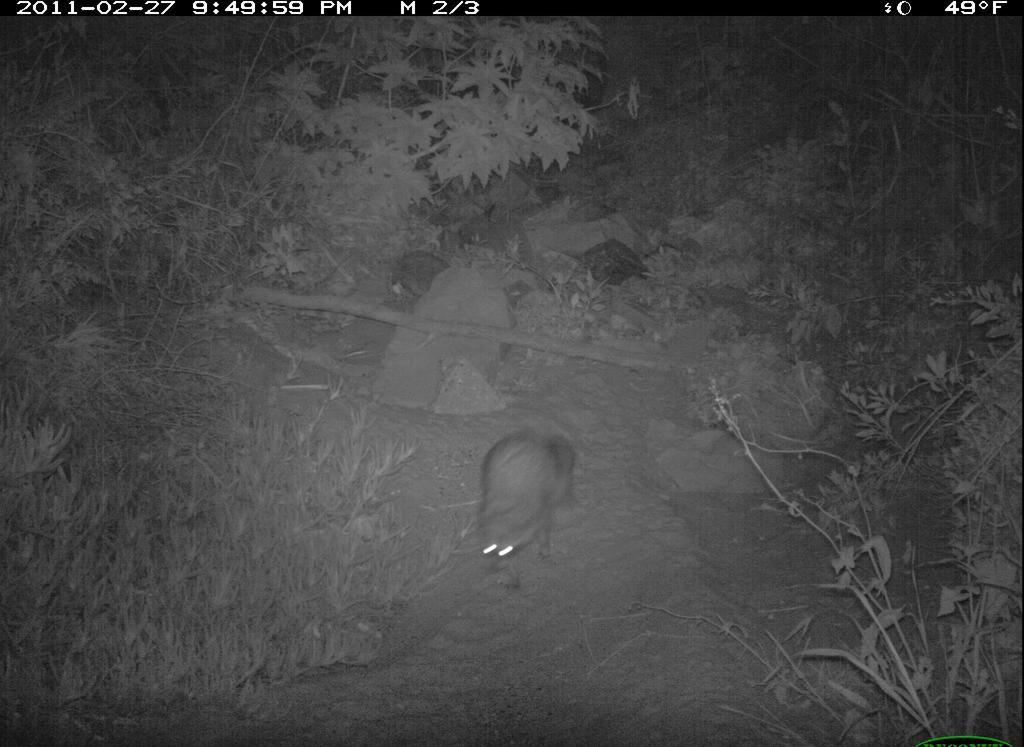raccoon: (470, 414, 591, 588)
